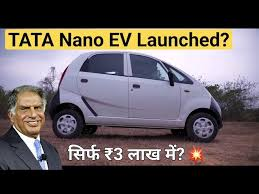Nano: (51, 47, 223, 146)
